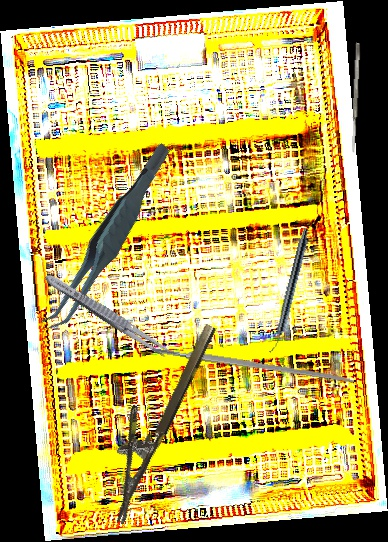Dressing Forceps: (41, 270, 176, 362)
Handpiece: (268, 226, 311, 356)
Needle Holder: (84, 310, 219, 525)
Scalpel Handle: (150, 344, 355, 385)
Spatula Surgical: (349, 42, 362, 154)
Tissue Forceps: (10, 141, 205, 336)
